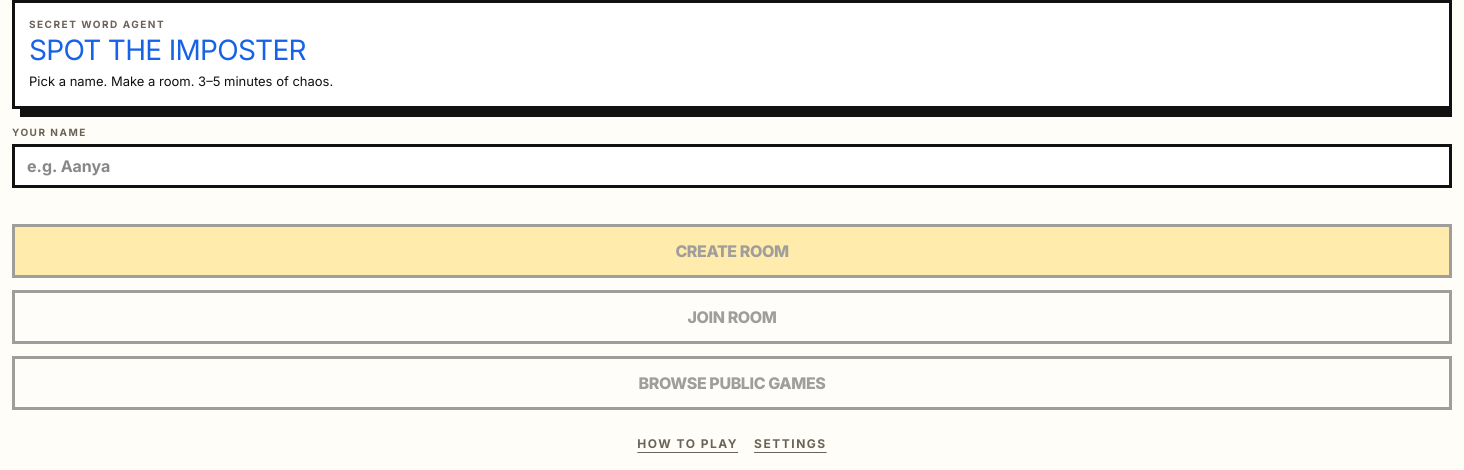
Test case: Landing › disables Create/Join until the username is valid
This screenshot has width=1464, height=470.
Expected: the button "Create Room" is disabled, top-left (12, 224), bottom-right (1452, 278)
Expected: the button "Join Room" is disabled, top-left (12, 290), bottom-right (1452, 344)
In the field labelled "Your name": (732, 166) top-left (12, 144), bottom-right (1452, 188), type "Aanya"
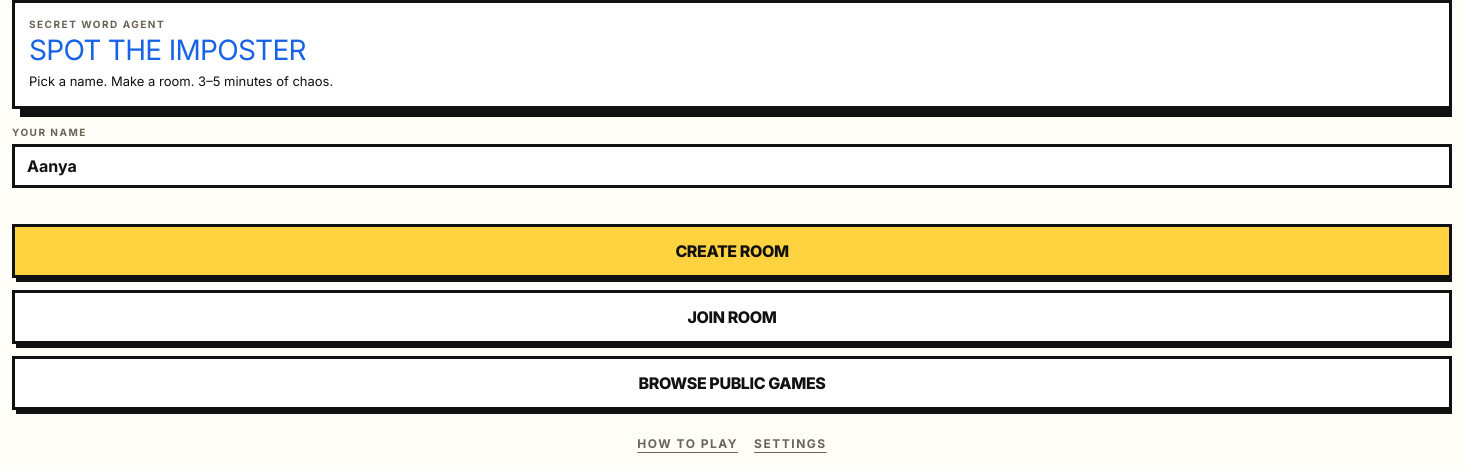
Result: the button "Create Room" is enabled at top-left (12, 224), bottom-right (1452, 278)
Result: the button "Join Room" is enabled at top-left (12, 290), bottom-right (1452, 344)
